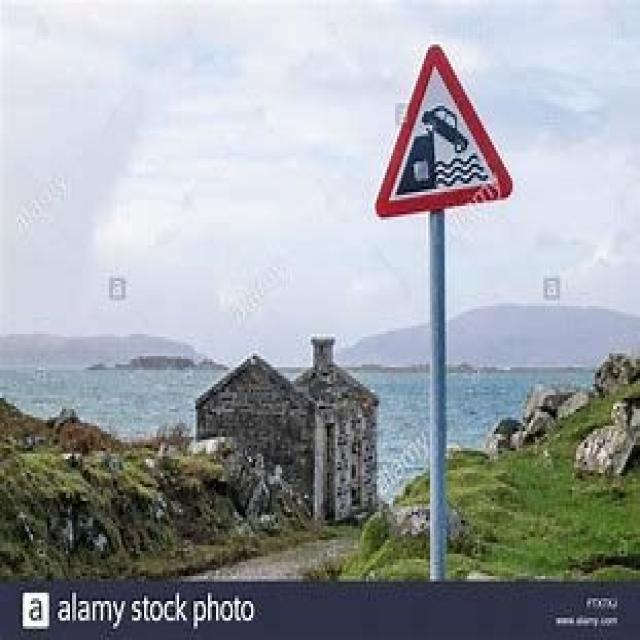quay side or river bank: (373, 38, 515, 217)
